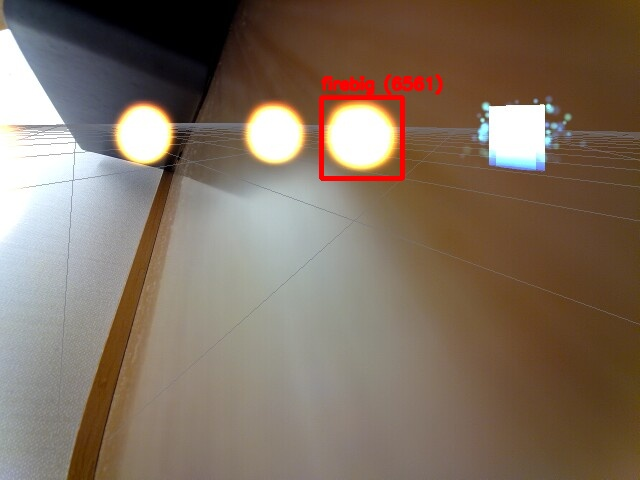firebig: (321, 97, 402, 178)
